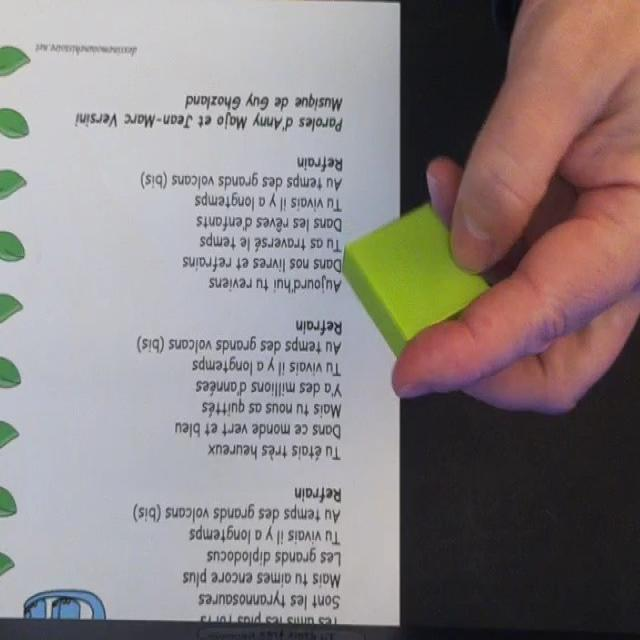square: (341, 203, 494, 356)
